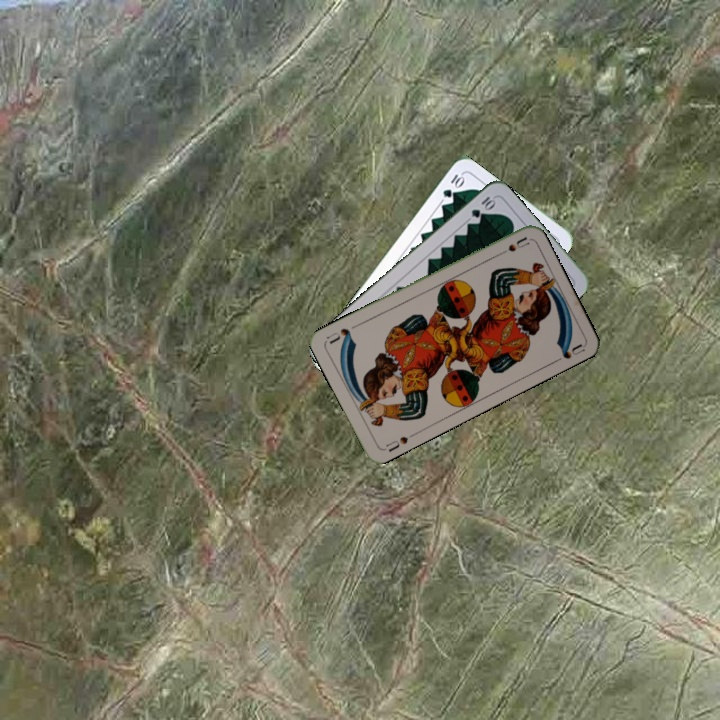G10: (467, 192, 498, 221), (438, 170, 467, 200)
SU: (492, 233, 532, 259), (380, 429, 418, 454)
